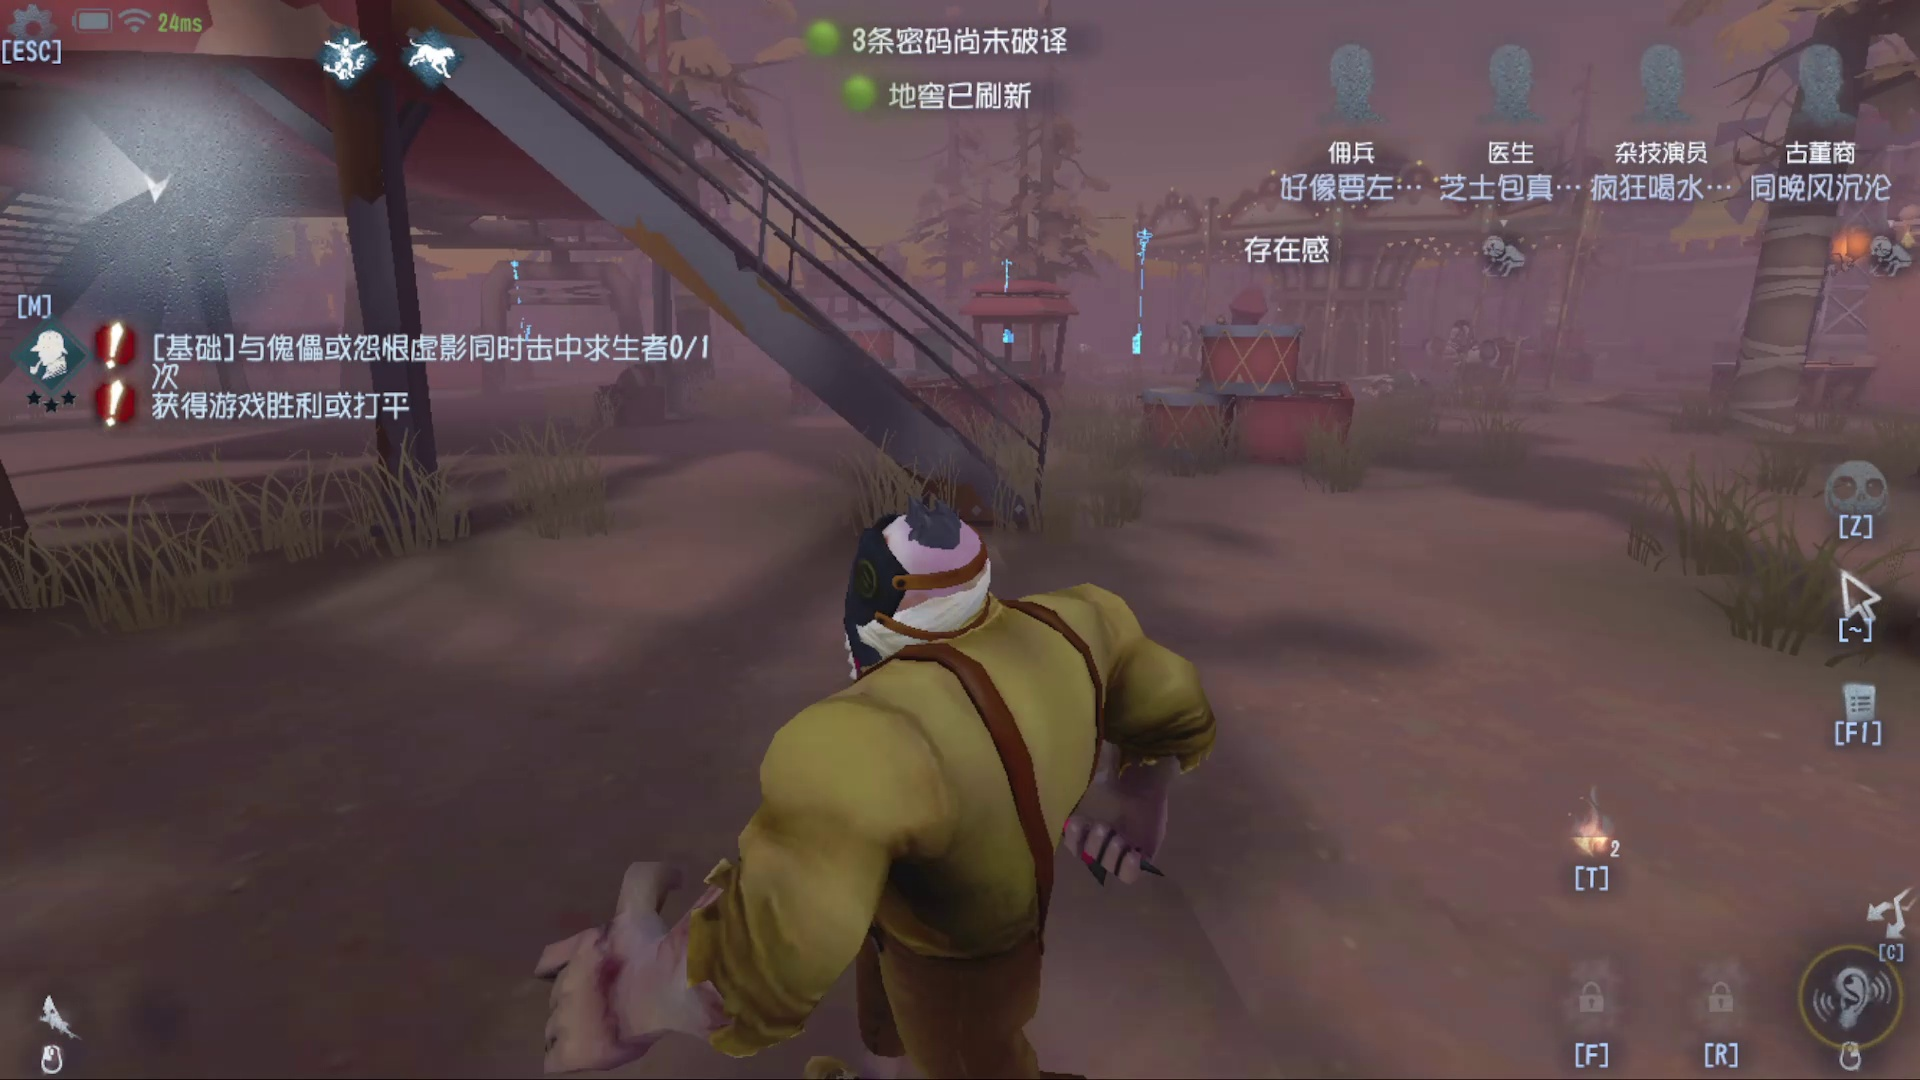密码机: (1116, 220, 1163, 369), (502, 251, 546, 356), (994, 249, 1029, 367)
